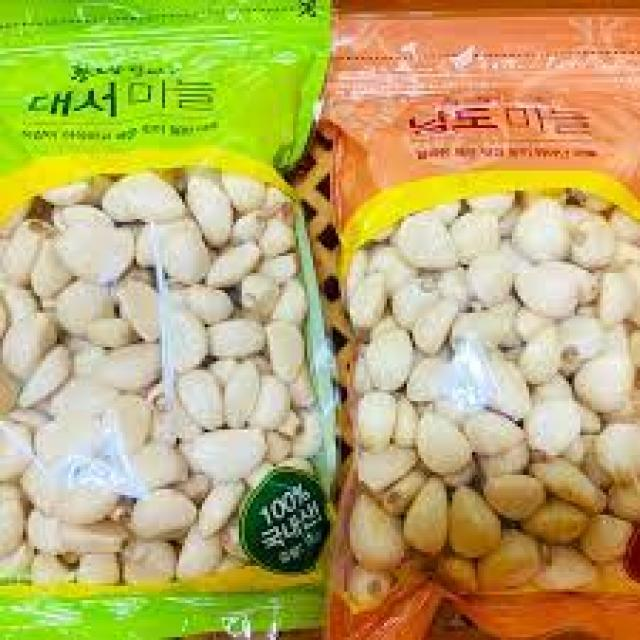Garlic bulb: (48, 217, 230, 396), (26, 390, 194, 543), (402, 208, 573, 344)
